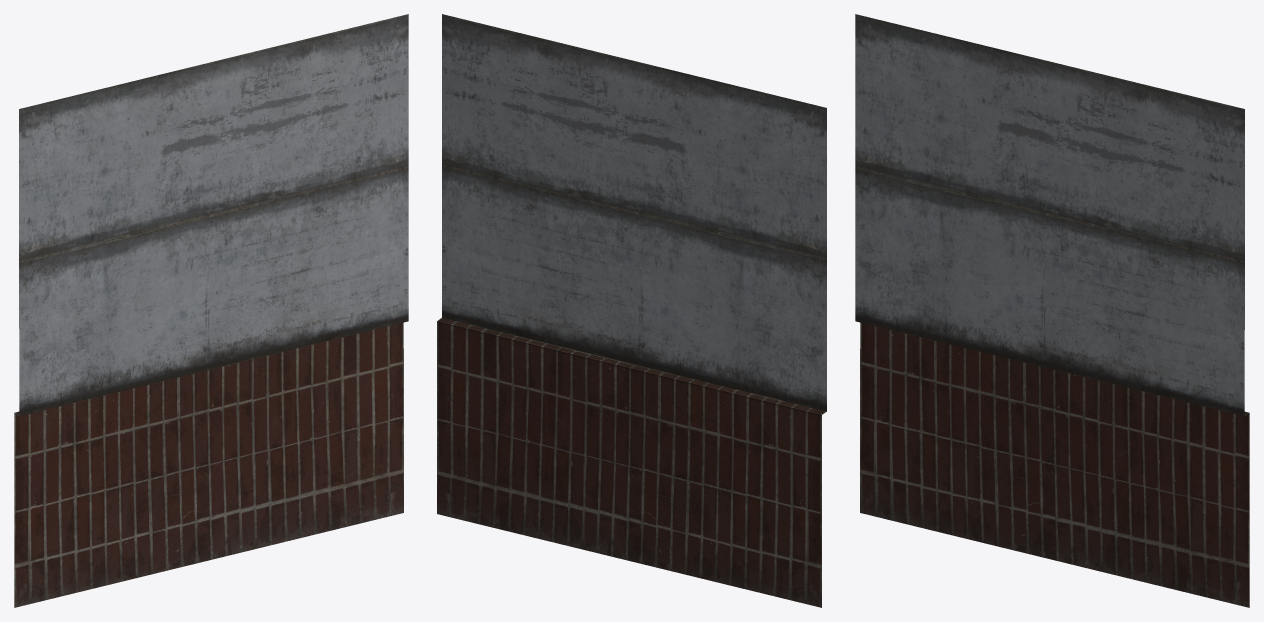
Rendered from Psychiatric_Ward_Guards_Room_Interior_Wall_2m.glb.
3 renders of one model, left to right at view 1: azimuth 30°, elevation 25°; view 2: azimuth 150°, elevation 25°; view 3: azimuth 330°, elevation 25°, orthographic.
Visible parts, largest first — view 1: Psychiatric_Ward_Guards_Room_Interior_Wall_2m; view 2: Psychiatric_Ward_Guards_Room_Interior_Wall_2m; view 3: Psychiatric_Ward_Guards_Room_Interior_Wall_2m.
Boxes of the visible parts, box(x1,y1,x2,y2) form: Psychiatric_Ward_Guards_Room_Interior_Wall_2m: box(14, 14, 408, 607); Psychiatric_Ward_Guards_Room_Interior_Wall_2m: box(437, 14, 826, 607); Psychiatric_Ward_Guards_Room_Interior_Wall_2m: box(855, 14, 1249, 607).
Bounding box in the file's own units: 2 × 2.47 × 0.0437.
Materials: 1 (1 with a texture image).
